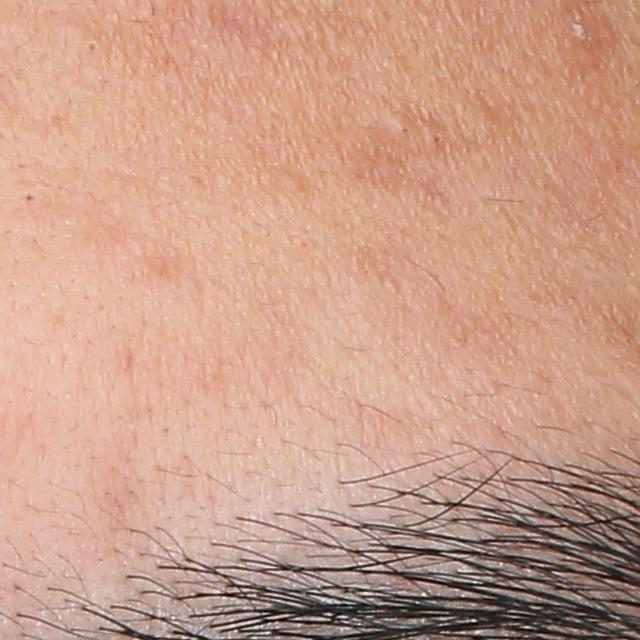comedo: (386, 115, 418, 142), (423, 127, 454, 148), (19, 186, 44, 209), (80, 36, 102, 56)
